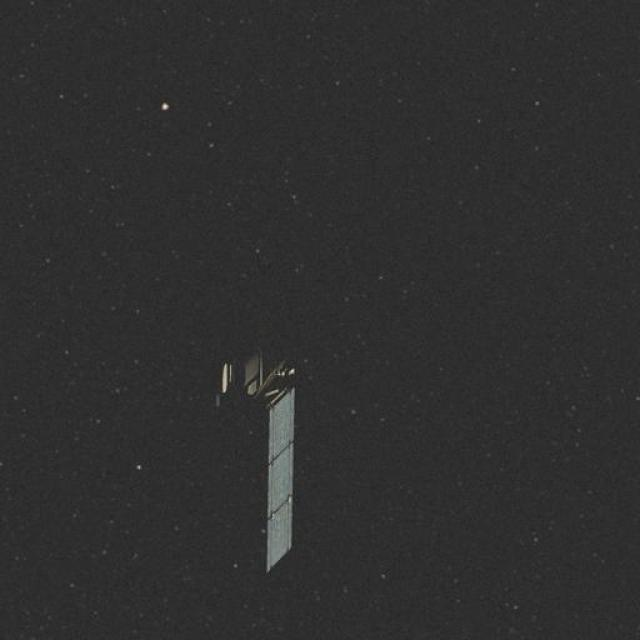earth_observation_sat_1: (188, 330, 311, 580)
